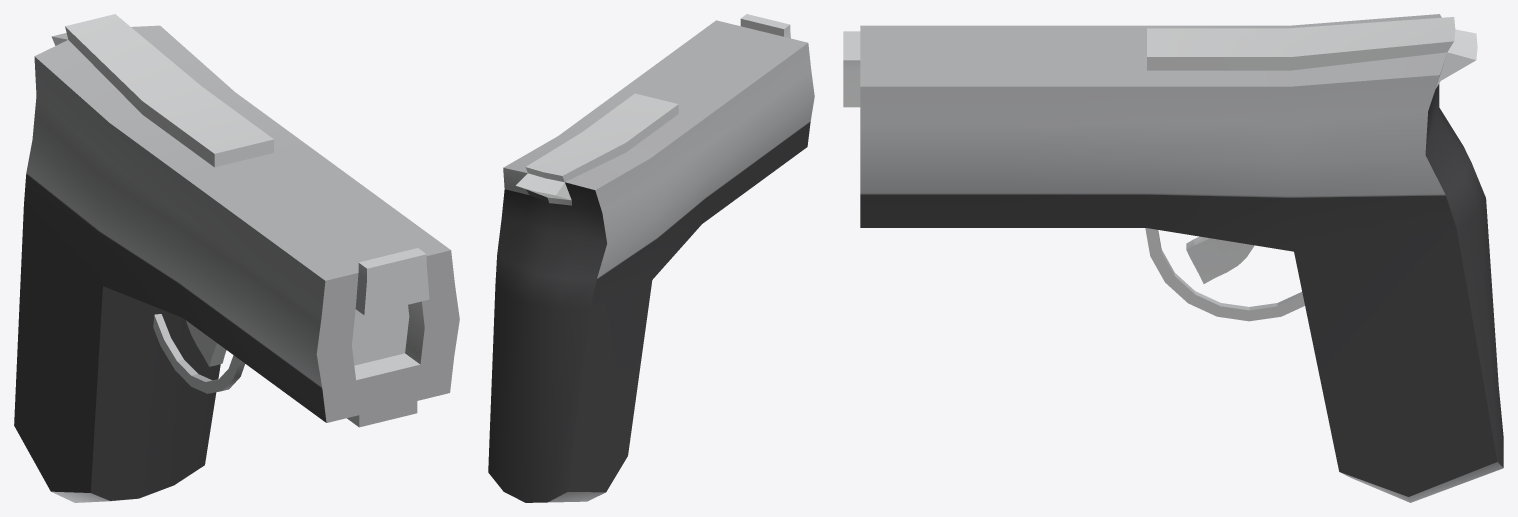
Rendered from GunAnimation.fbx.
3 views of the same model, side by side, from view 1: azimuth 30°, elevation 25°; view 2: azimuth 150°, elevation 25°; view 3: azimuth 270°, elevation 25° (orthographic). The views are drawn at different scales.
Parts seen in each view (by area): view 1: GunModel; view 2: GunModel; view 3: GunModel.
Part boxes in pixels (x1,y1,x2,y2): GunModel: [14, 14, 459, 502]; GunModel: [488, 14, 814, 502]; GunModel: [843, 14, 1503, 502].
Size of the model in its own units: 0.3008 by 0.9098 by 1.17.
Materials: 1 (1 with a texture image).
